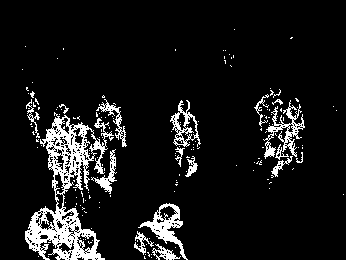person: (95, 98, 129, 194), (134, 201, 188, 260), (65, 115, 97, 208), (170, 98, 200, 185), (45, 116, 71, 210), (278, 97, 305, 181), (255, 87, 282, 167)
